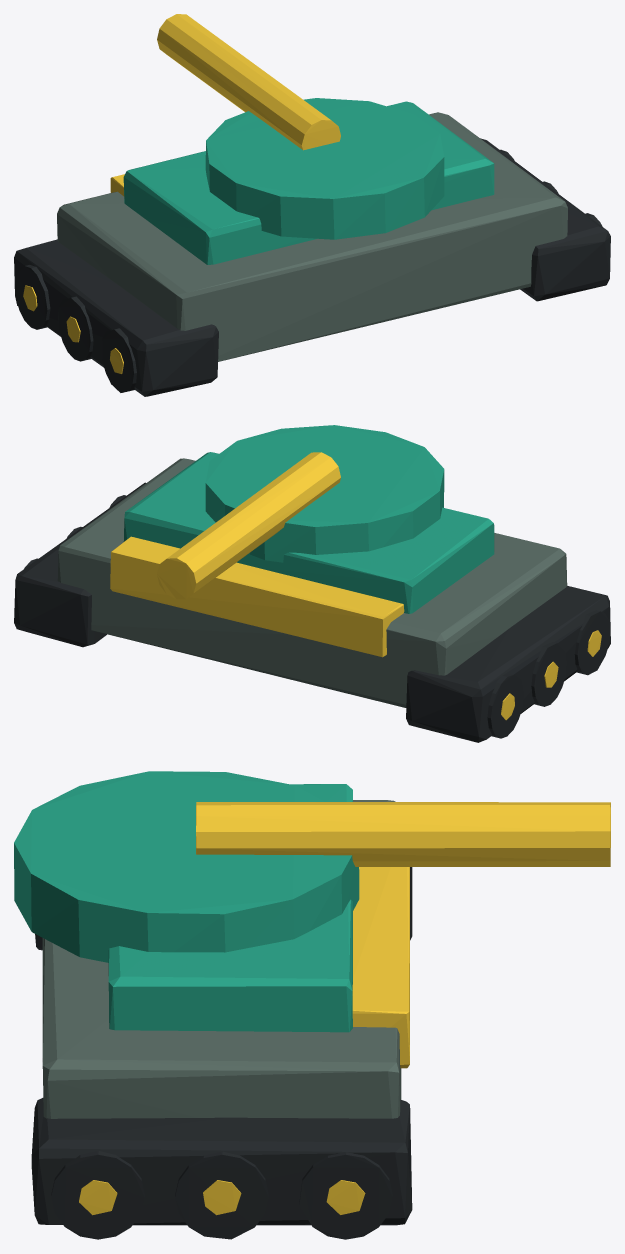
File: SM_Coalition_CO_MonsoonArtillery_LOD2.fbx
3 renders of one model, top to bottom at view 1: azimuth 30°, elevation 25°; view 2: azimuth 150°, elevation 25°; view 3: azimuth 270°, elevation 25°, orthographic. The views are drawn at different scales.
Parts seen in each view (by area): view 1: LOD02_SM_Coalition_CO_MonsoonArtillery; view 2: LOD02_SM_Coalition_CO_MonsoonArtillery; view 3: LOD02_SM_Coalition_CO_MonsoonArtillery.
Boxes of the visible parts, left/top/right/bottom form: LOD02_SM_Coalition_CO_MonsoonArtillery: left=14, top=14, right=610, bottom=396; LOD02_SM_Coalition_CO_MonsoonArtillery: left=14, top=425, right=610, bottom=742; LOD02_SM_Coalition_CO_MonsoonArtillery: left=14, top=771, right=610, bottom=1239.
Bounding box in the file's own units: 572 × 432 × 214.
